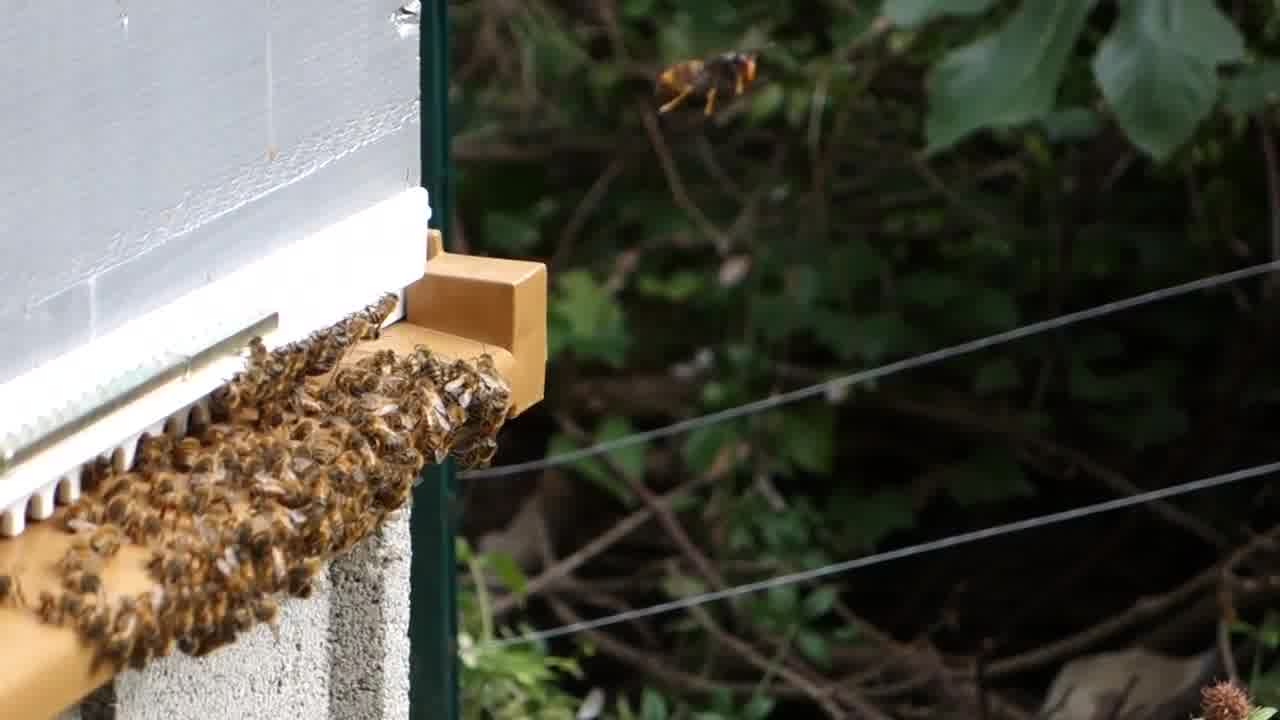bee: (177, 475, 301, 641), (213, 385, 443, 472), (303, 481, 400, 533), (147, 429, 219, 479), (112, 485, 169, 544), (455, 405, 504, 465), (464, 346, 510, 405), (107, 600, 154, 655), (239, 340, 302, 380), (314, 317, 363, 366), (397, 346, 443, 388), (371, 284, 408, 330)
hornet: (656, 46, 789, 113)
